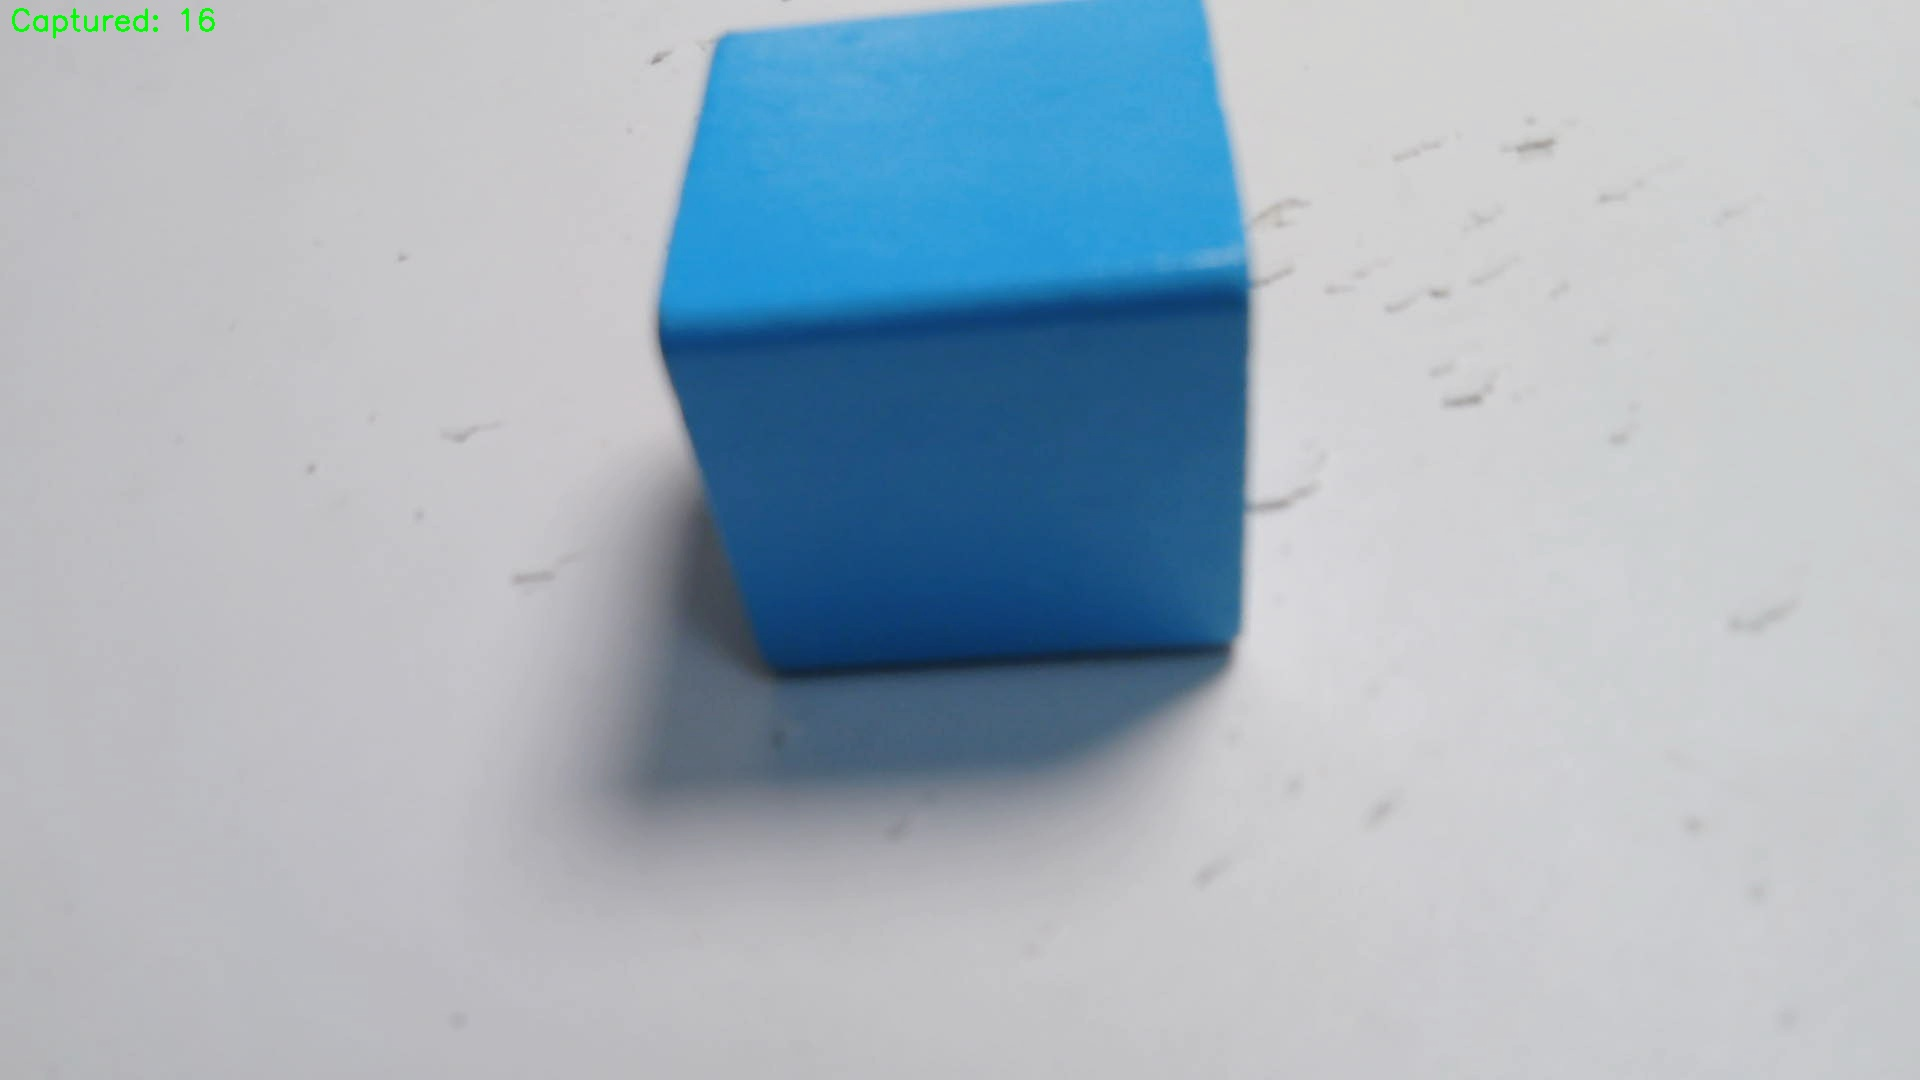blue: (667, 3, 1251, 683)
